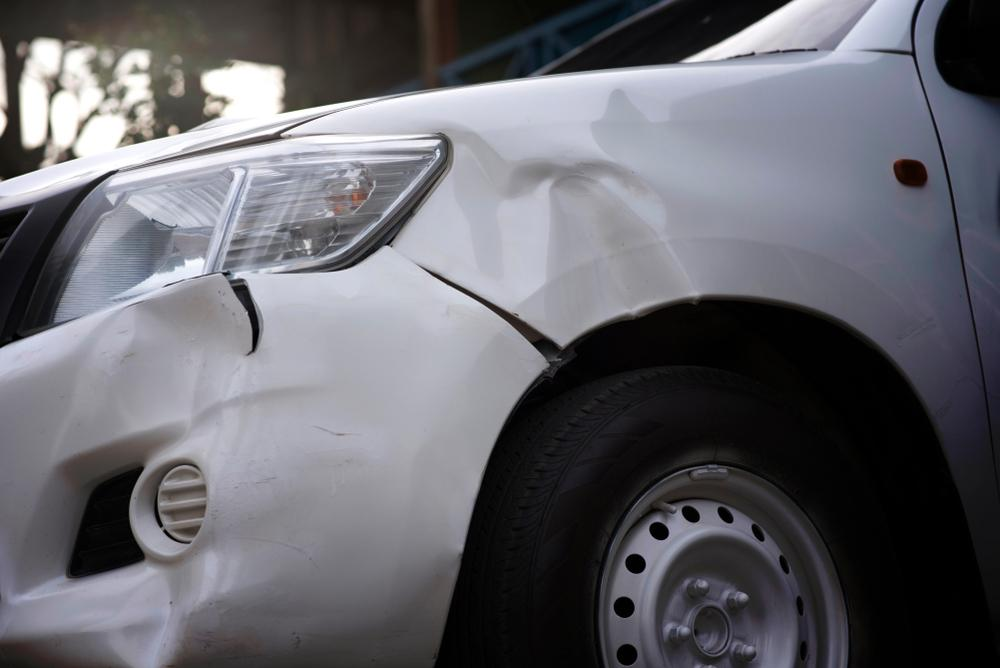crack: (229, 277, 262, 355)
dent: (396, 121, 694, 340), (124, 284, 254, 450), (108, 556, 202, 653)
